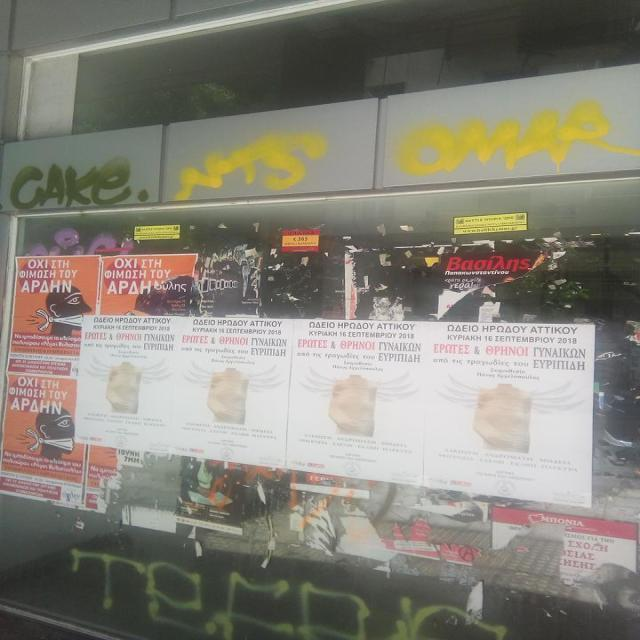nonspitting: (71, 545, 510, 640), (396, 102, 640, 172), (174, 132, 331, 201), (9, 158, 153, 208)
